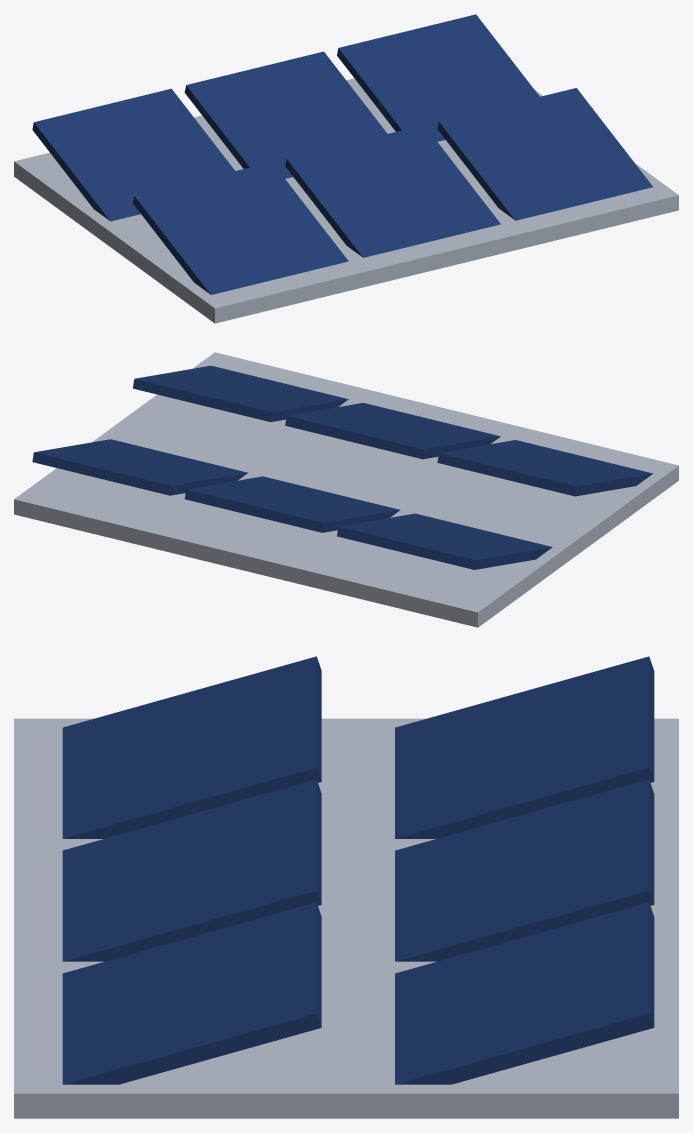
File: lunar-solar-field-tile.glb
3 views of the same model, one above another, from view 1: azimuth 30°, elevation 25°; view 2: azimuth 150°, elevation 25°; view 3: azimuth 270°, elevation 25° (orthographic). The views are drawn at different scales.
Visible parts, largest first — view 1: solar_field_tile; view 2: solar_field_tile; view 3: solar_field_tile.
Boxes of the visible parts, <box> form: solar_field_tile: <box>14,14,678,323</box>; solar_field_tile: <box>14,352,678,627</box>; solar_field_tile: <box>14,656,678,1118</box>.
Bounding box in the file's own units: 3.2 × 0.3838 × 2.4.
